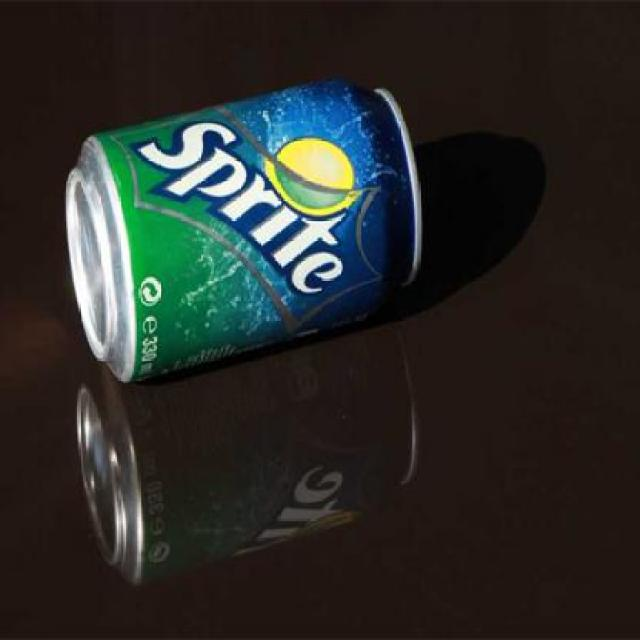Metal: (63, 80, 426, 385)
